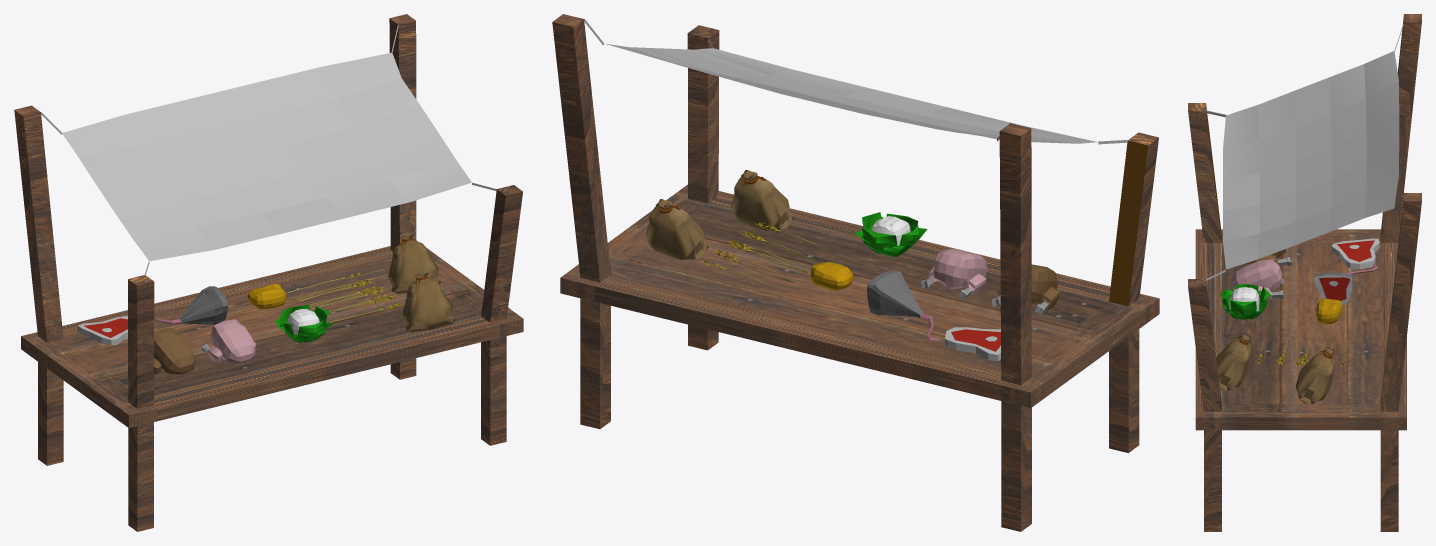
File: food stall.glb
3 views of the same model, side by side, from view 1: azimuth 30°, elevation 25°; view 2: azimuth 150°, elevation 25°; view 3: azimuth 270°, elevation 25° (orthographic). The views are drawn at different scales.
Parts seen in each view (by area): view 1: Cube.017; view 2: Cube.017; view 3: Cube.017.
Part boxes in pixels (x1,y1,x2,y2): Cube.017: [14, 14, 523, 531]; Cube.017: [552, 14, 1159, 531]; Cube.017: [1188, 14, 1421, 531].
Bounding box in the file's own units: 1.9 × 1.58 × 0.9964.
Materials: 19 (2 with a texture image).
